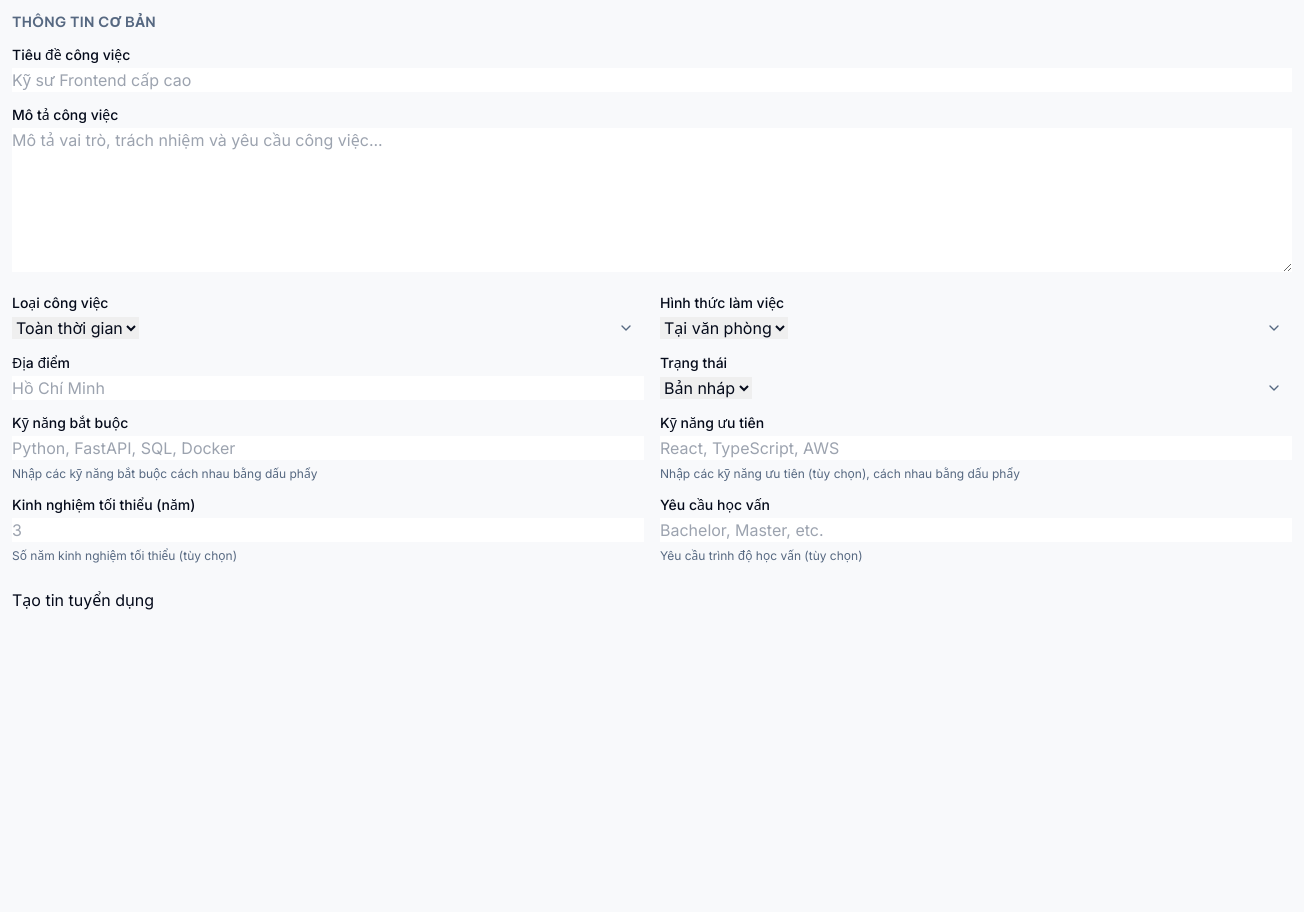
Scenario: JobForm › requires a job title
The image size is (1304, 912).
Click the button "Tạo tin tuyển dụng".
click(83, 600)  # box [12,588,154,612]
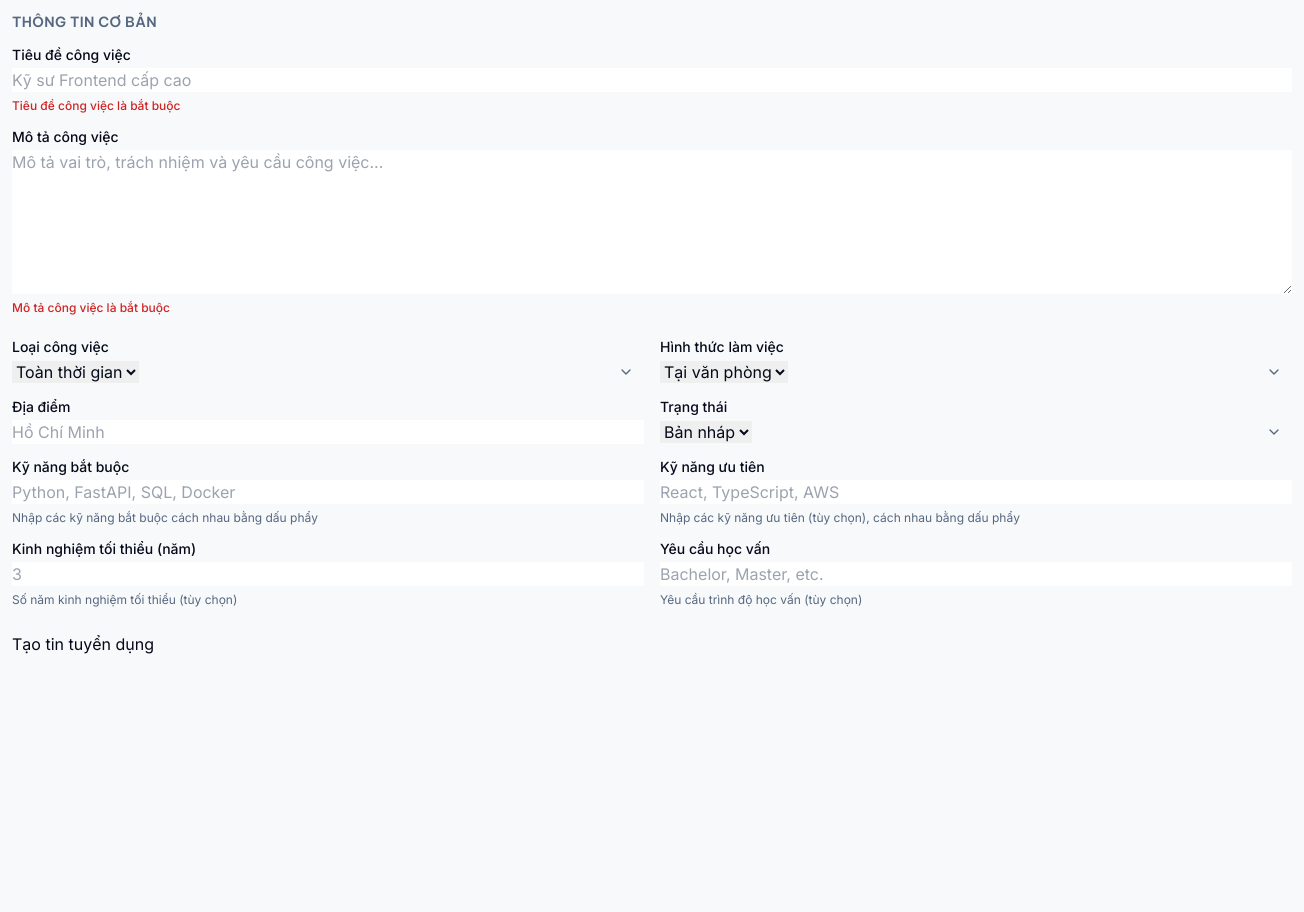
Now the text "Tiêu đề công việc là bắt buộc" is shown, box [12,98,180,113]
